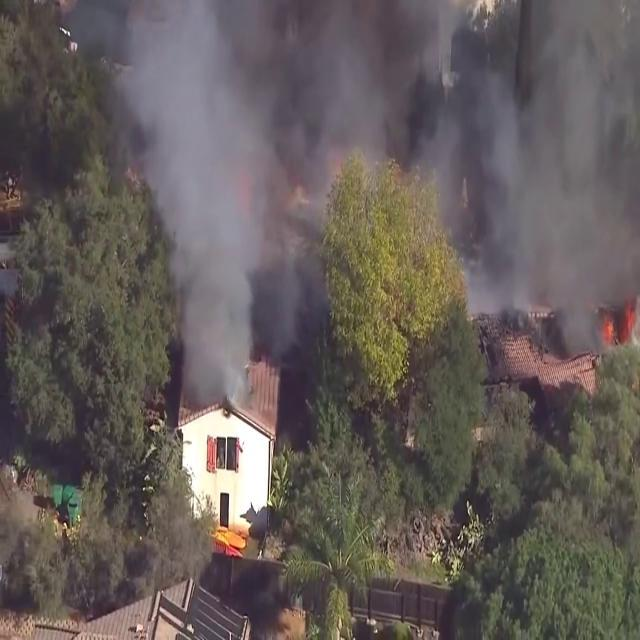Fire: (599, 288, 640, 355)
Smoke: (103, 0, 640, 368)
